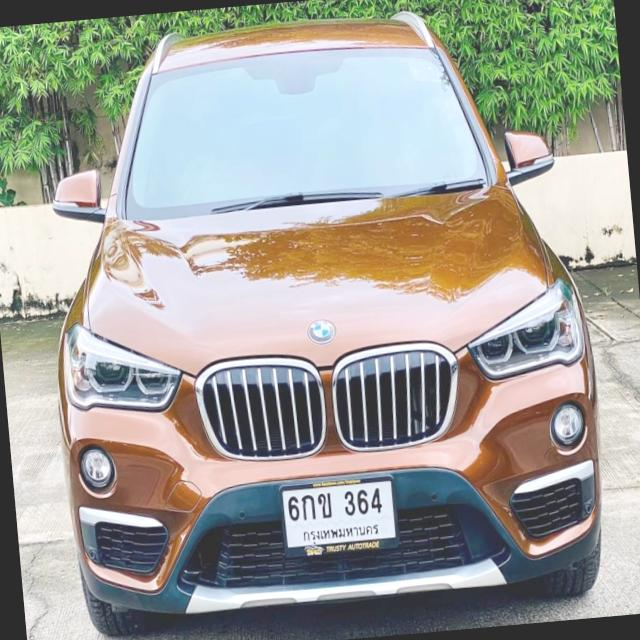license_plate: (276, 472, 402, 566)
